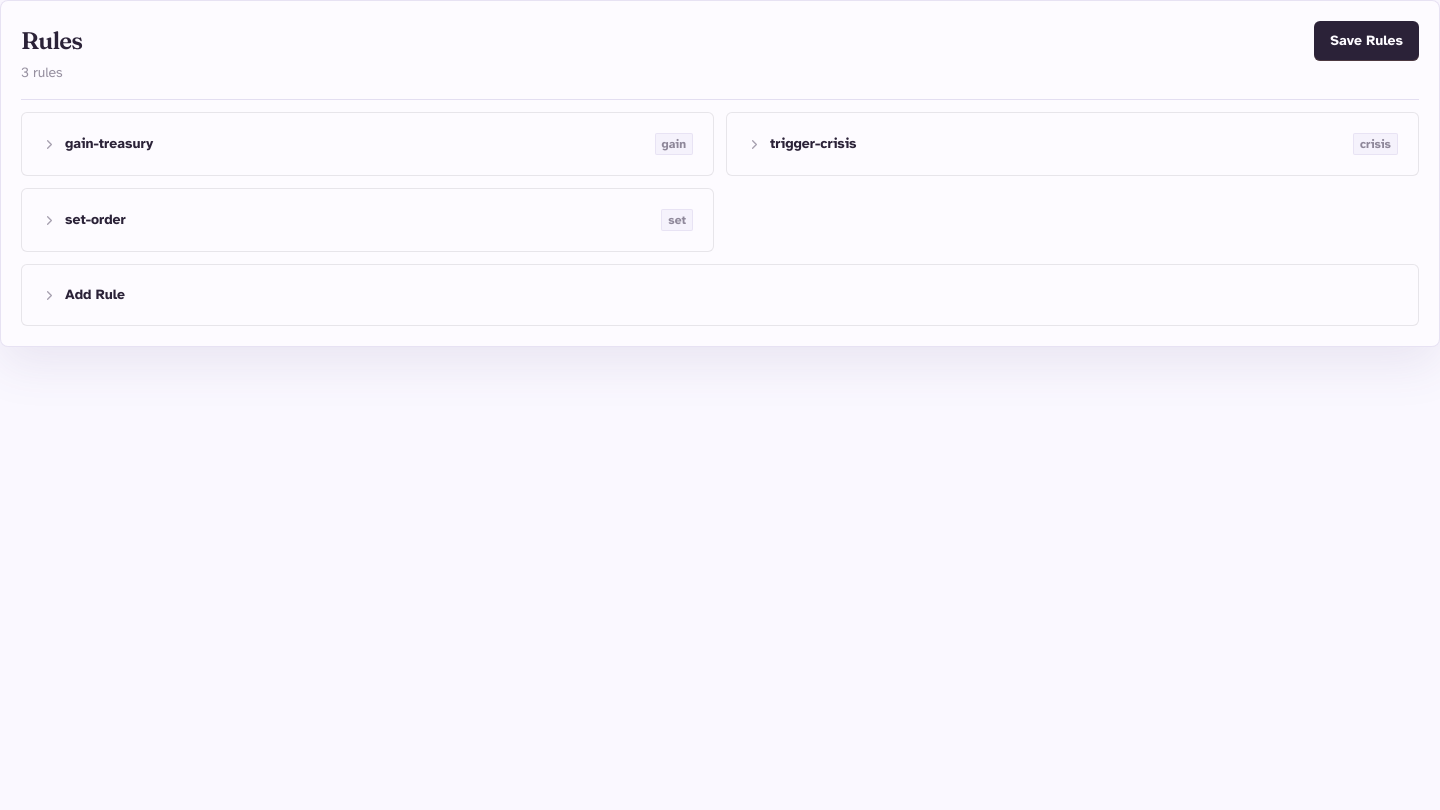
Scenario: RulesView › shows set_resource effect label with value
This screenshot has width=1440, height=810.
Step 1. Click the button "set-order set" → (95, 220), box [38,205,697,235]
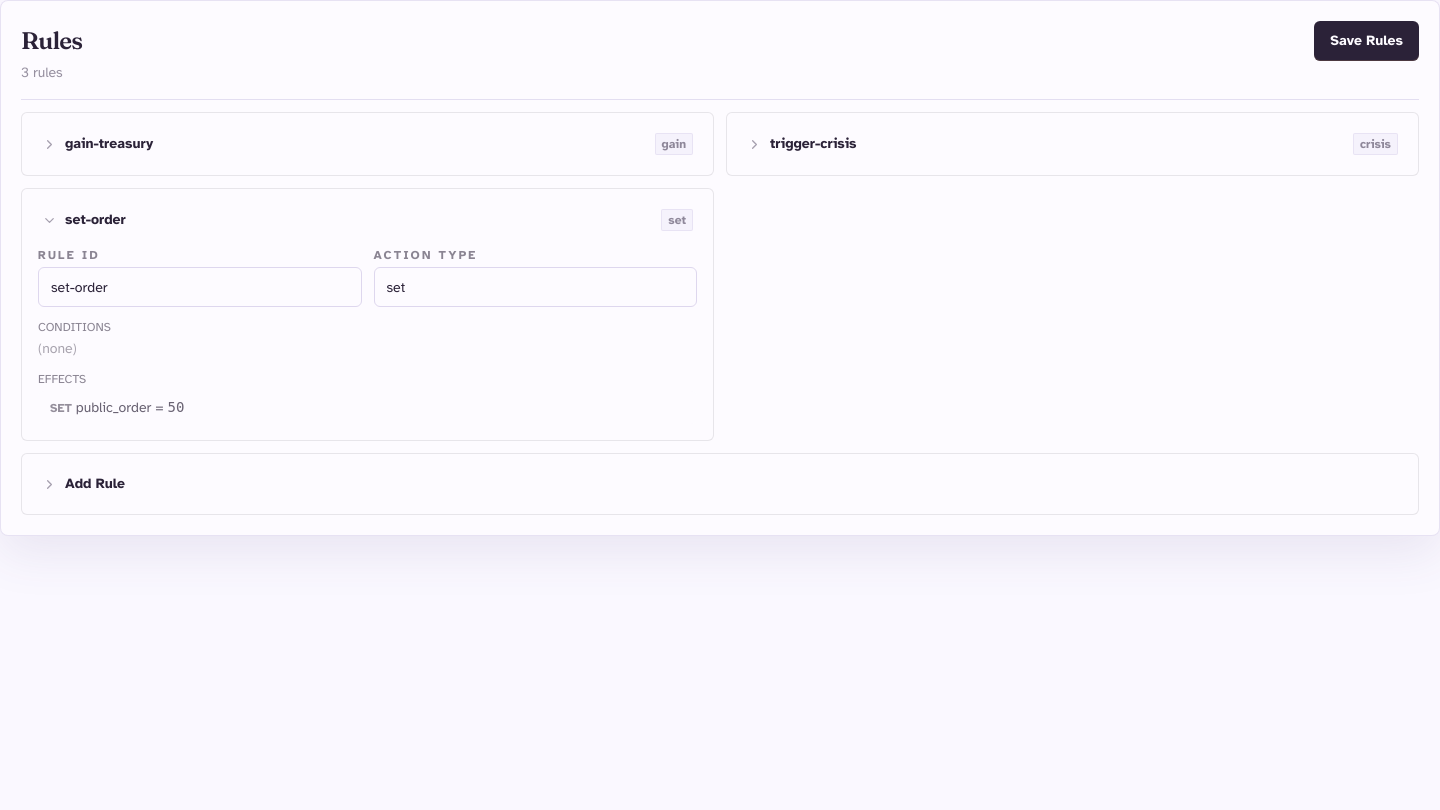
Check: the text "public_order" is shown, box [76,399,151,416]
Check: the text "50" is shown, box [168,399,184,415]
